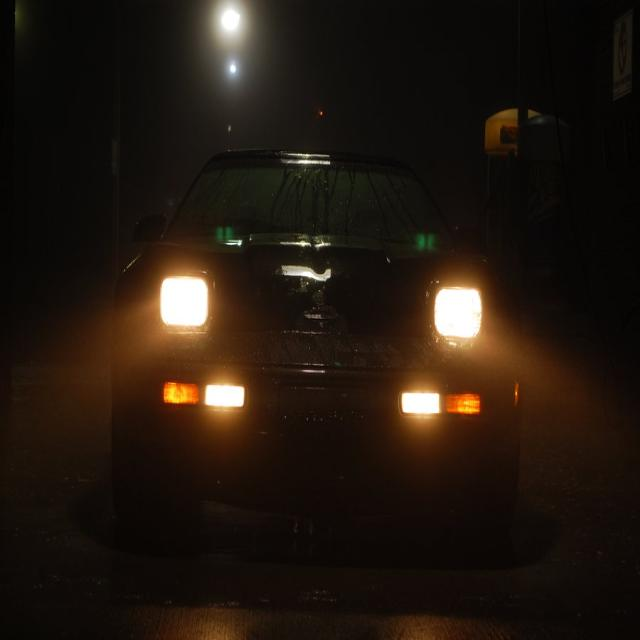car: (116, 106, 531, 545)
